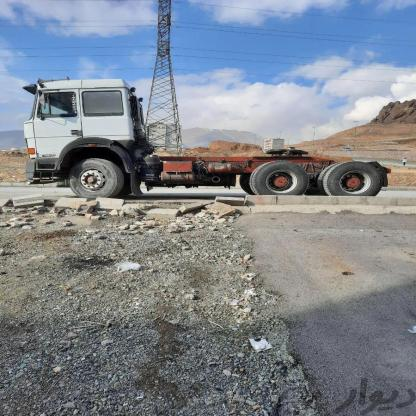Truck: (13, 73, 404, 217)
